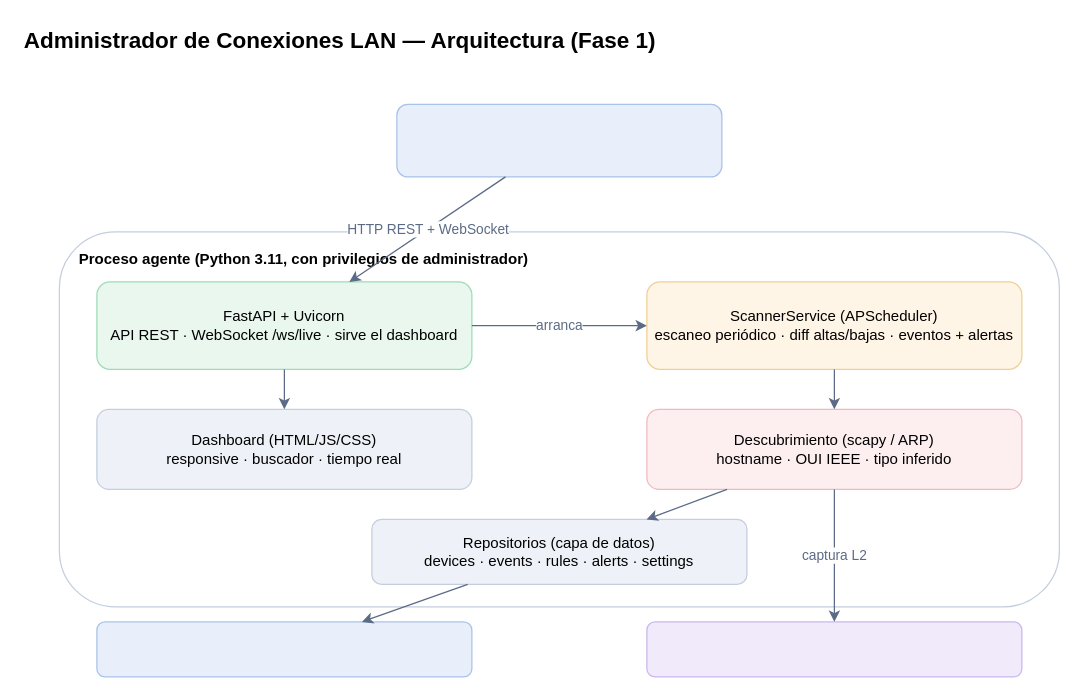
The diagram is 1081 pixels wide and 699 high, and some of its shapes have lost their labels. The shapes that lost their labels are listed below. From the top down, each one's centre as x and y in pixels, then its label:
the point at 559,140: Navegador (PC local o celular / laptop en la LAN)
the point at 284,649: SQLite (data/lanmanager.db) inventario · historial · reglas · alertas
the point at 834,649: Npcap (driver de captura) requerido en Windows para ARP
